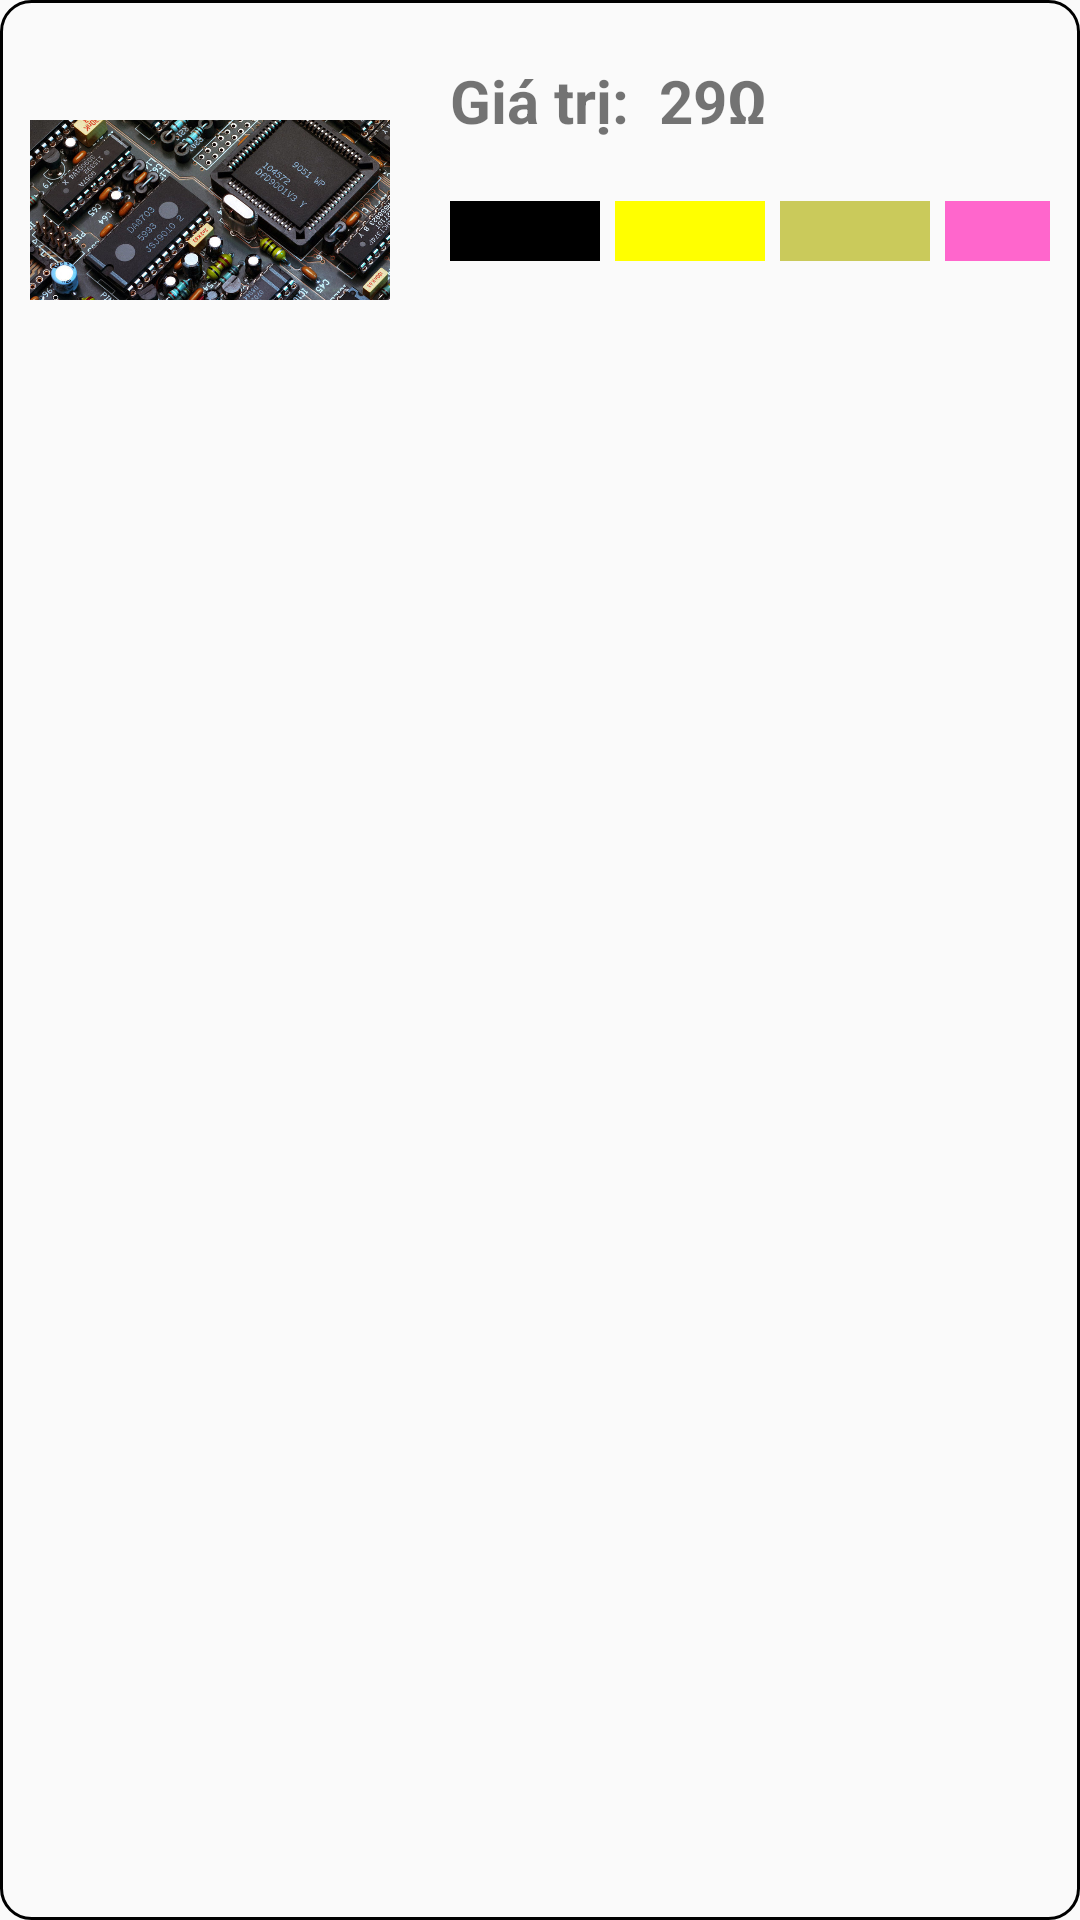

Icons on this 1080 × 1920 Android screen, each with its box as Rect(x1, y1, x2, y2):
mach: Rect(30, 120, 390, 300)
